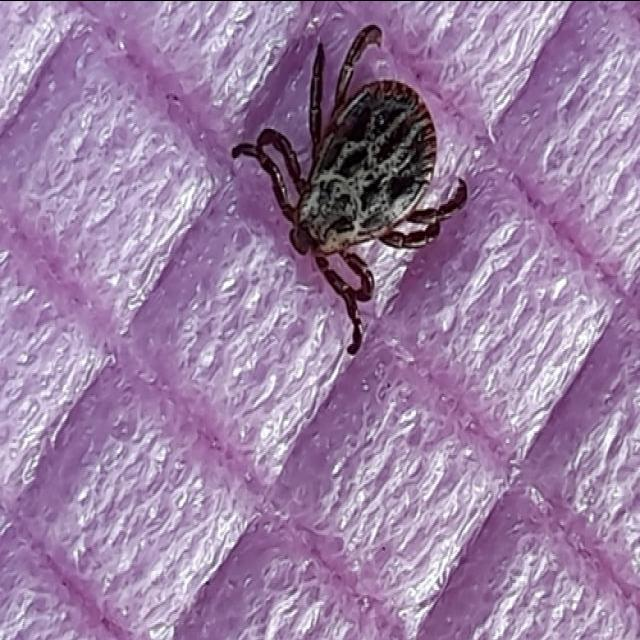Dermacentor Reticulatus-M: (233, 24, 468, 353)
